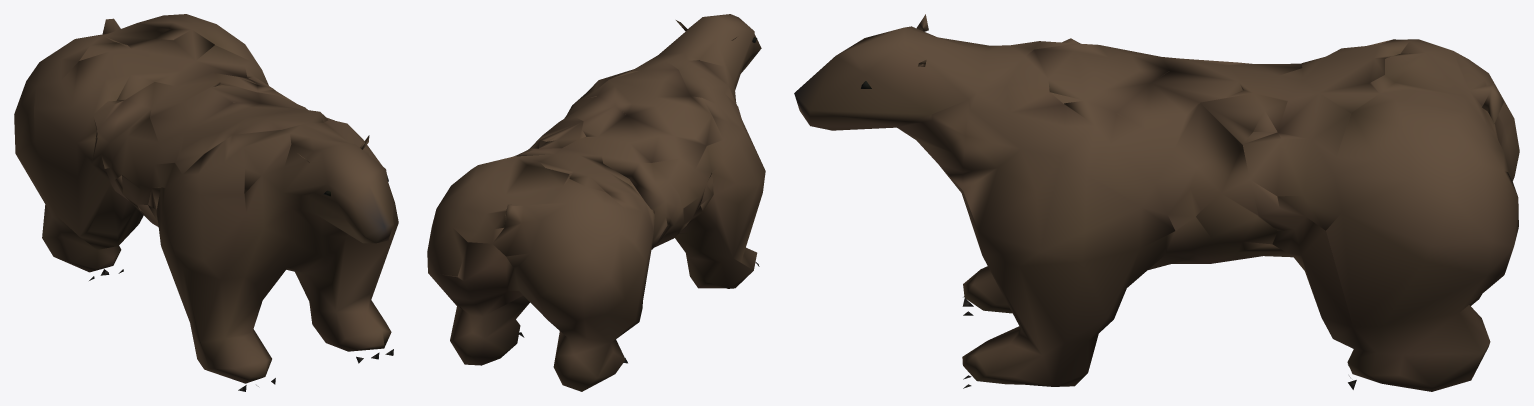
File: baer.glb
3 renders of one model, left to right at view 1: azimuth 30°, elevation 25°; view 2: azimuth 150°, elevation 25°; view 3: azimuth 270°, elevation 25°, orthographic. The views are drawn at different scales.
Visible parts, largest first — view 1: lack; view 2: lack; view 3: lack.
Boxes of the visible parts, left/top/right/bottom form: lack: left=14, top=14, right=398, bottom=391; lack: left=427, top=14, right=765, bottom=391; lack: left=794, top=14, right=1519, bottom=391.
Bounding box in the file's own units: 1.16 × 1.21 × 2.52.
